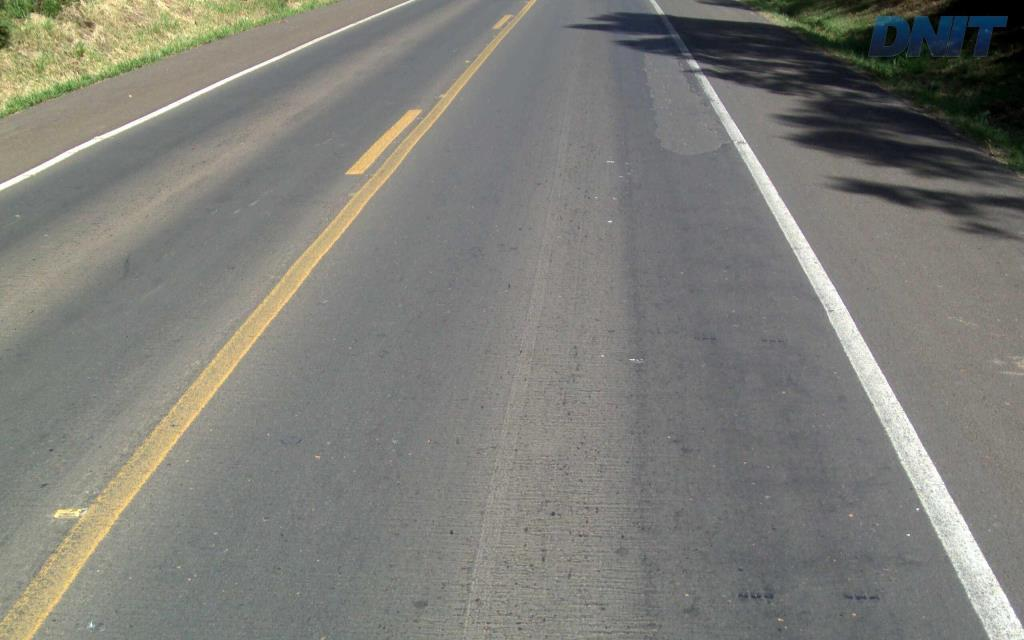pothole: (638, 31, 732, 159)
